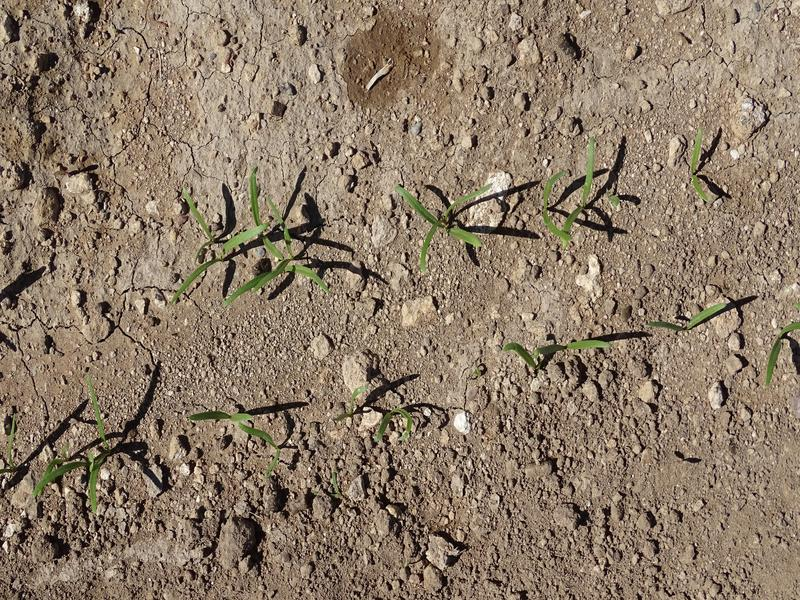Espinaca: (175, 180, 333, 297), (395, 176, 488, 273), (538, 141, 624, 242), (34, 428, 133, 510), (184, 401, 284, 449), (493, 332, 609, 372), (638, 304, 731, 332), (685, 127, 717, 206), (761, 319, 794, 387)
